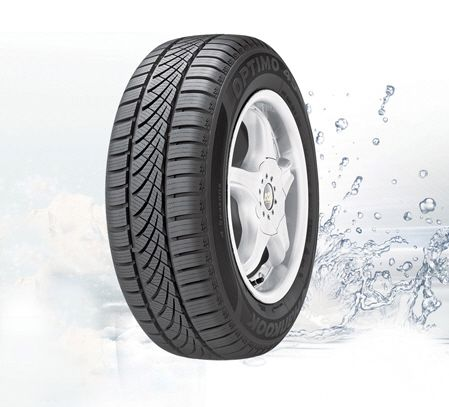new_condition: (102, 35, 321, 367)
